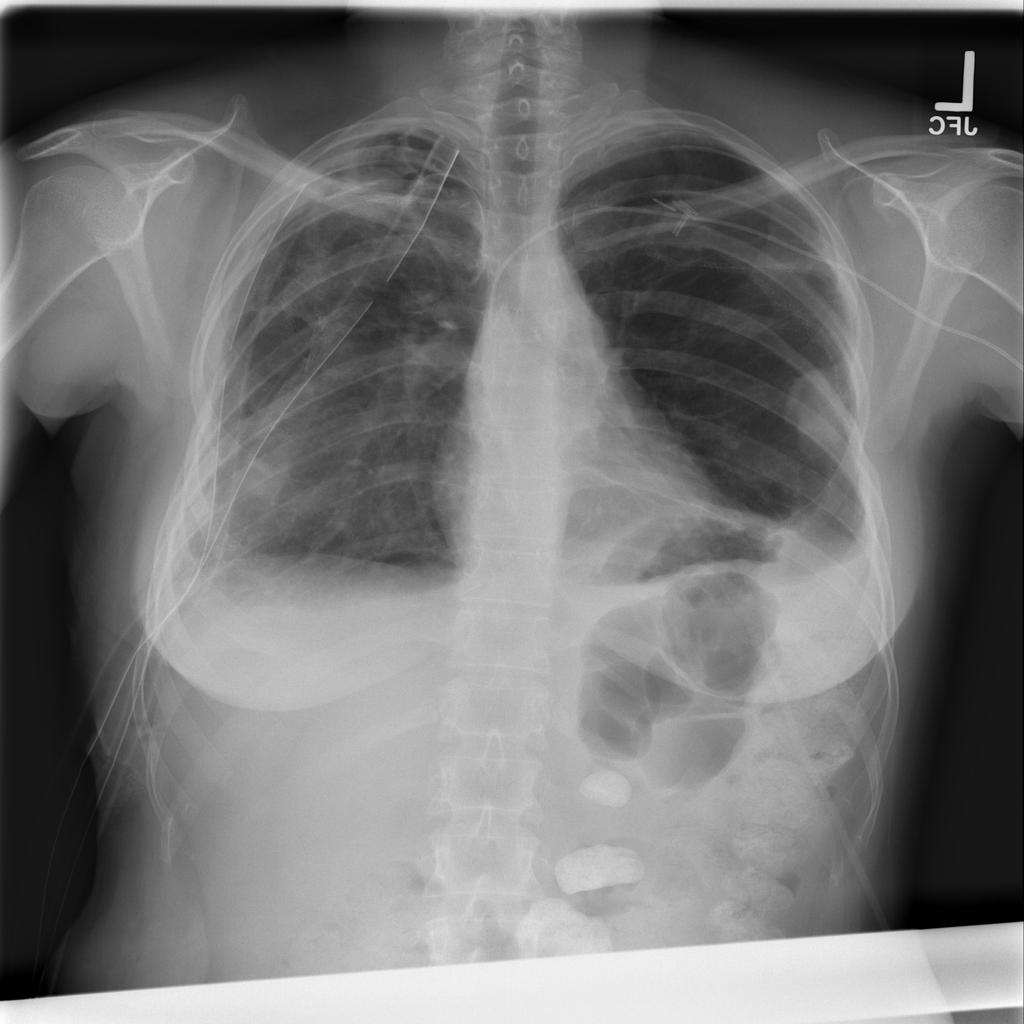nodule: (772, 348, 880, 462)
